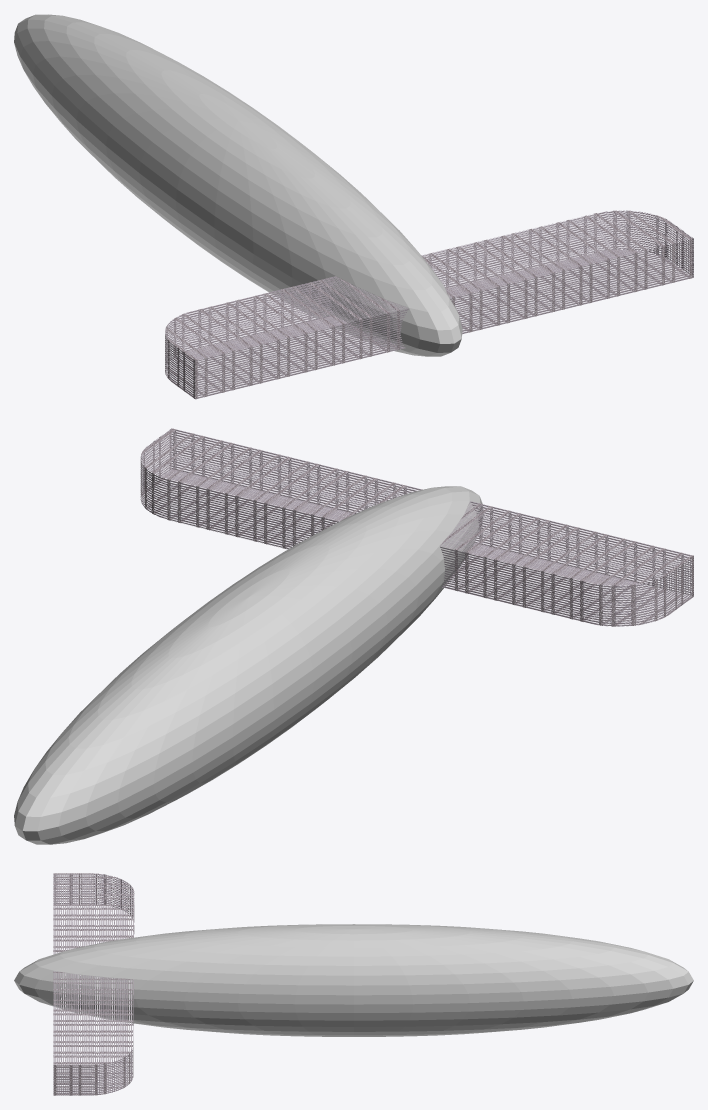
The model's file is Geruest5.dae.
3 views of the same model, one above another, from view 1: azimuth 30°, elevation 25°; view 2: azimuth 150°, elevation 25°; view 3: azimuth 270°, elevation 25° (orthographic). The views are drawn at different scales.
Visible parts, largest first — view 1: Komponente (×2); view 2: Komponente (×2); view 3: Komponente (×2).
Part boxes in pixels (x1,y1,x2,y2): Komponente (×2): (14,14,693,399); Komponente (×2): (14,428,693,844); Komponente (×2): (14,873,693,1095).
Bounding box in the file's own units: 814 × 1221 × 203.
